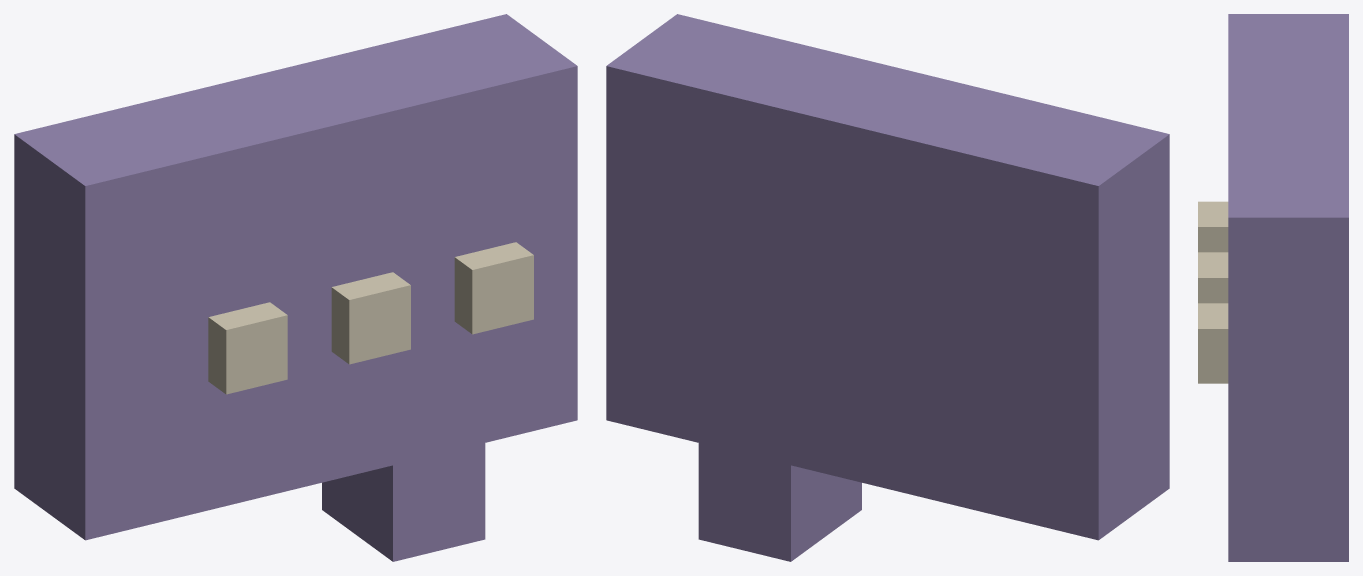
Rendered from social-02.glb.
3 renders of one model, left to right at view 1: azimuth 30°, elevation 25°; view 2: azimuth 150°, elevation 25°; view 3: azimuth 270°, elevation 25°, orthographic. The views are drawn at different scales.
Parts seen in each view (by area): view 1: Chat bubble; view 2: Chat bubble; view 3: Chat bubble.
Part boxes in pixels (<box>): Chat bubble: <box>14,14,577,561</box>; Chat bubble: <box>606,14,1169,561</box>; Chat bubble: <box>1198,14,1348,561</box>.
Bounding box in the file's own units: 1.28 × 1.12 × 0.4.
